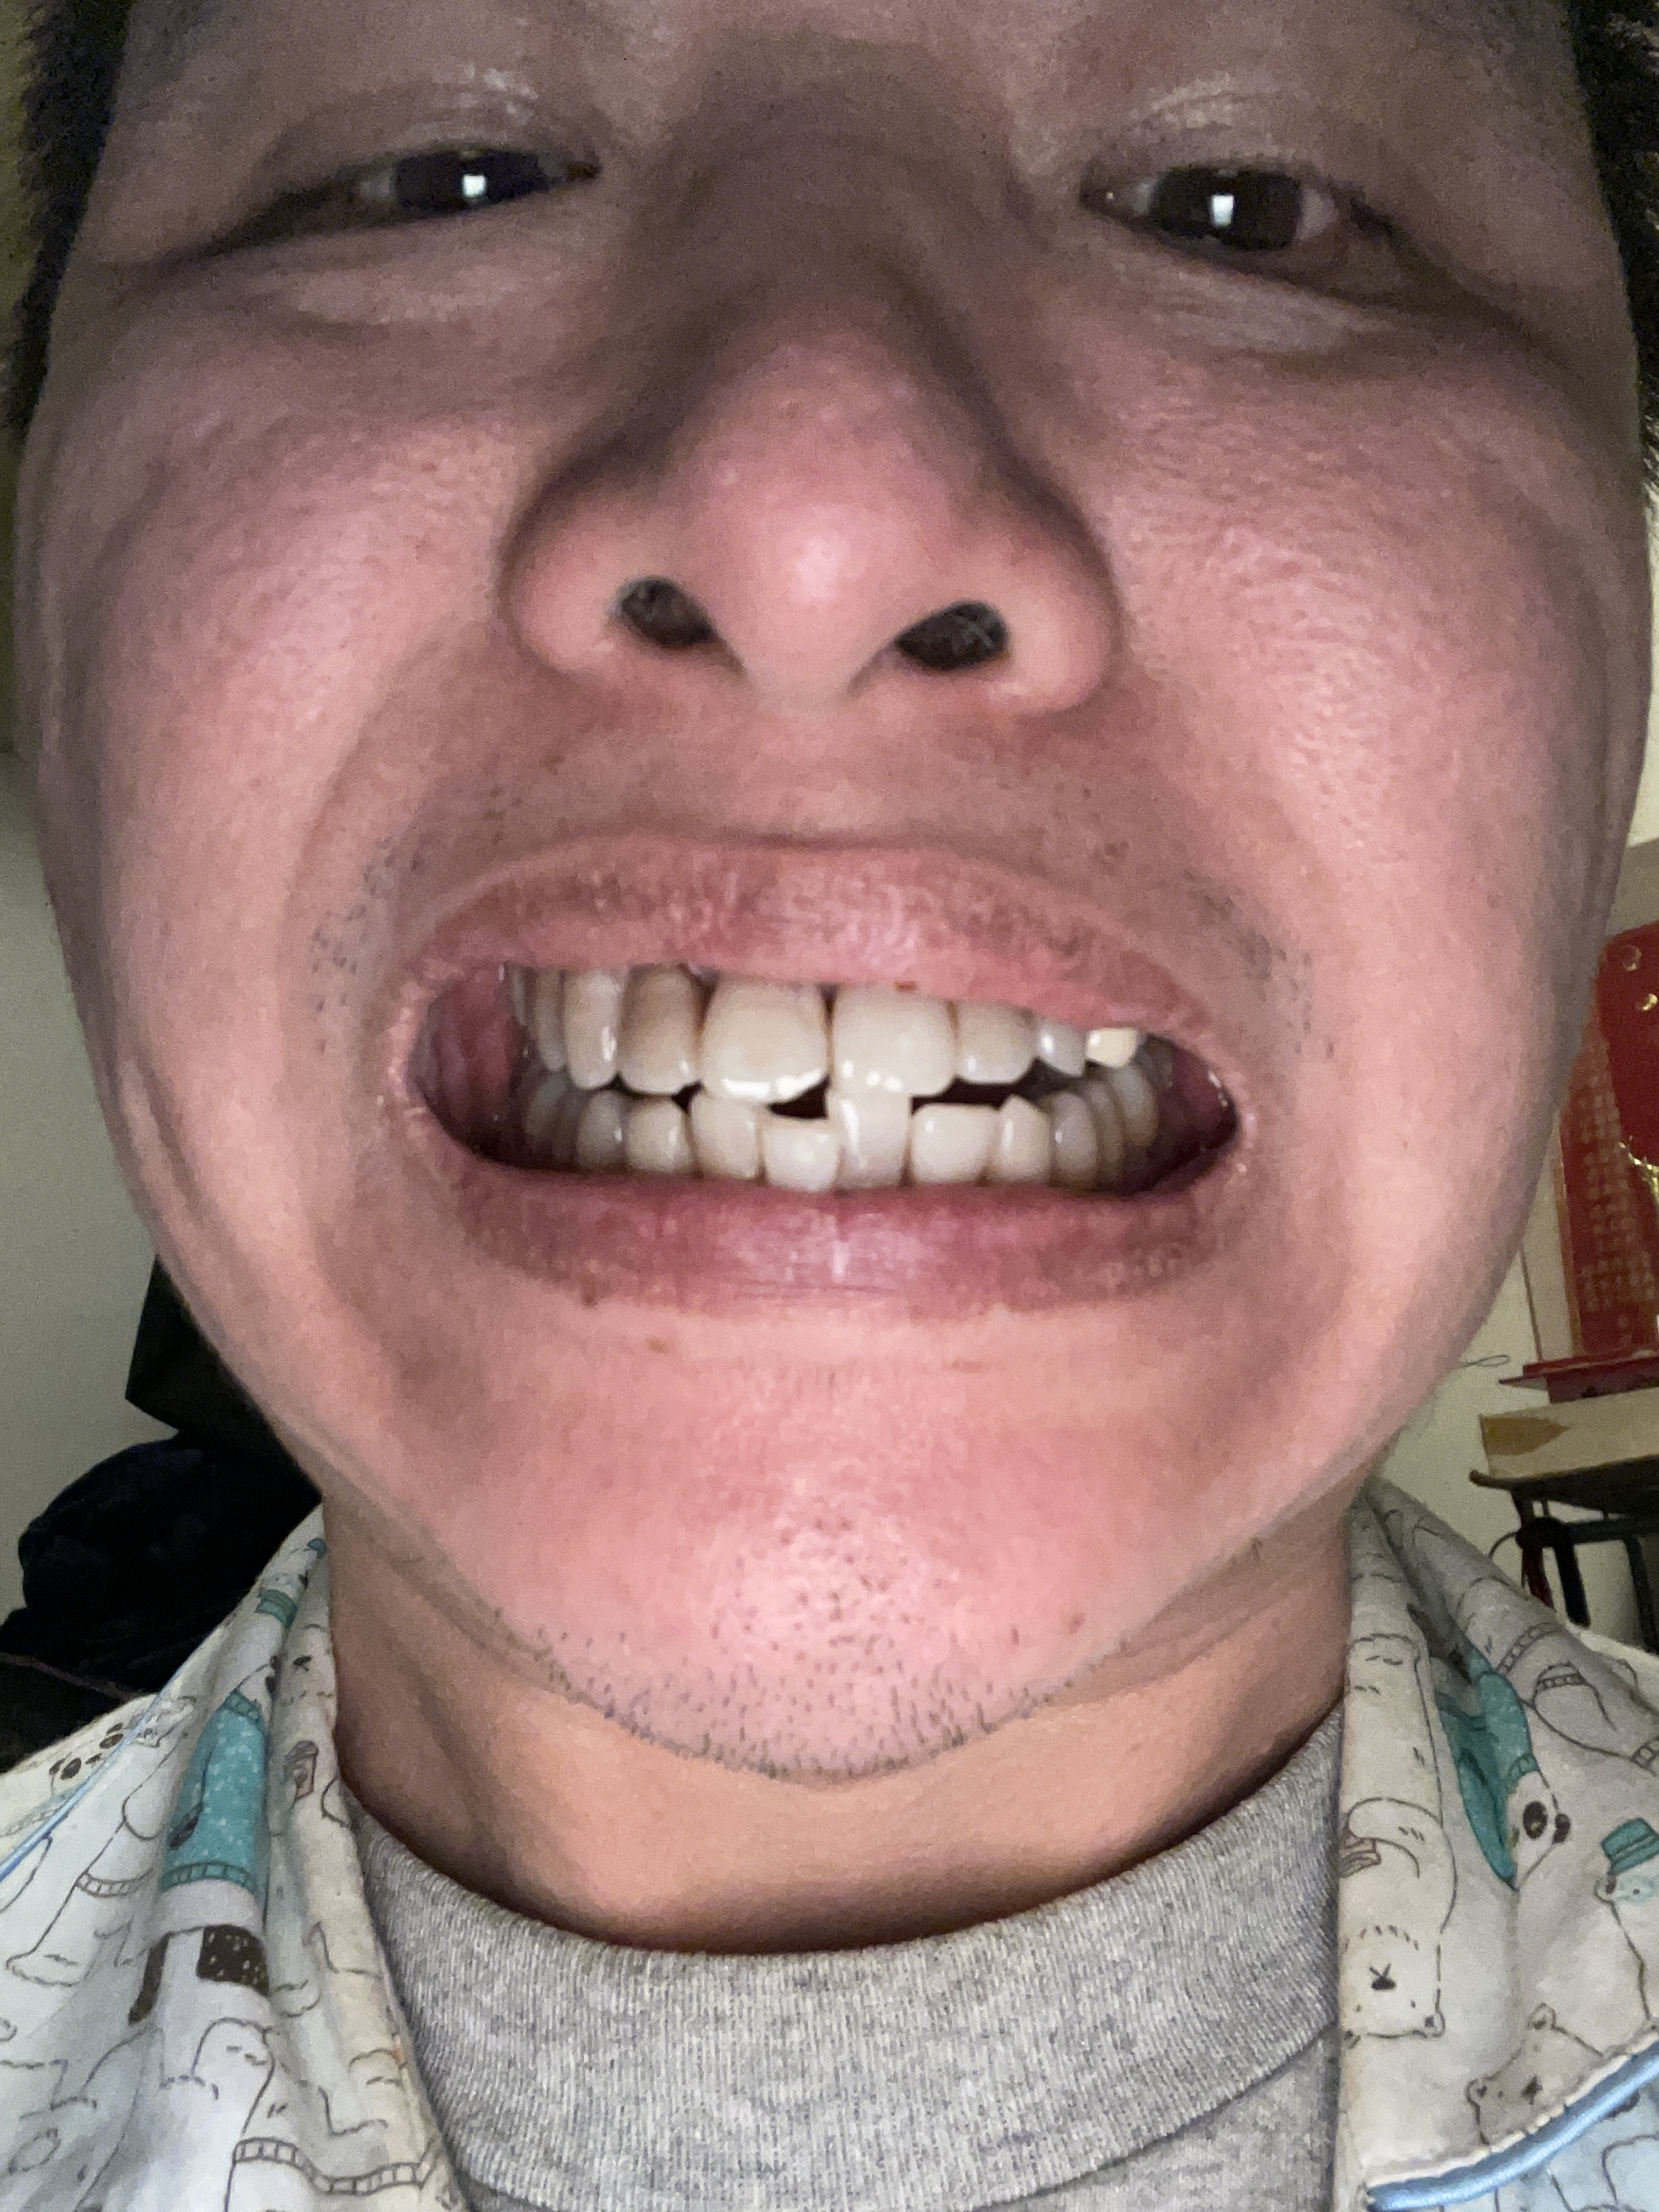teeth: (701, 984, 828, 1104), (833, 989, 953, 1094), (622, 977, 695, 1087), (829, 1094, 911, 1183), (915, 1106, 992, 1191), (958, 1005, 1039, 1085), (565, 979, 622, 1082), (767, 1120, 835, 1193), (697, 1097, 753, 1186), (993, 1099, 1053, 1183), (1058, 1092, 1098, 1183), (629, 1103, 680, 1170), (584, 1097, 622, 1165), (1040, 1021, 1075, 1073)
